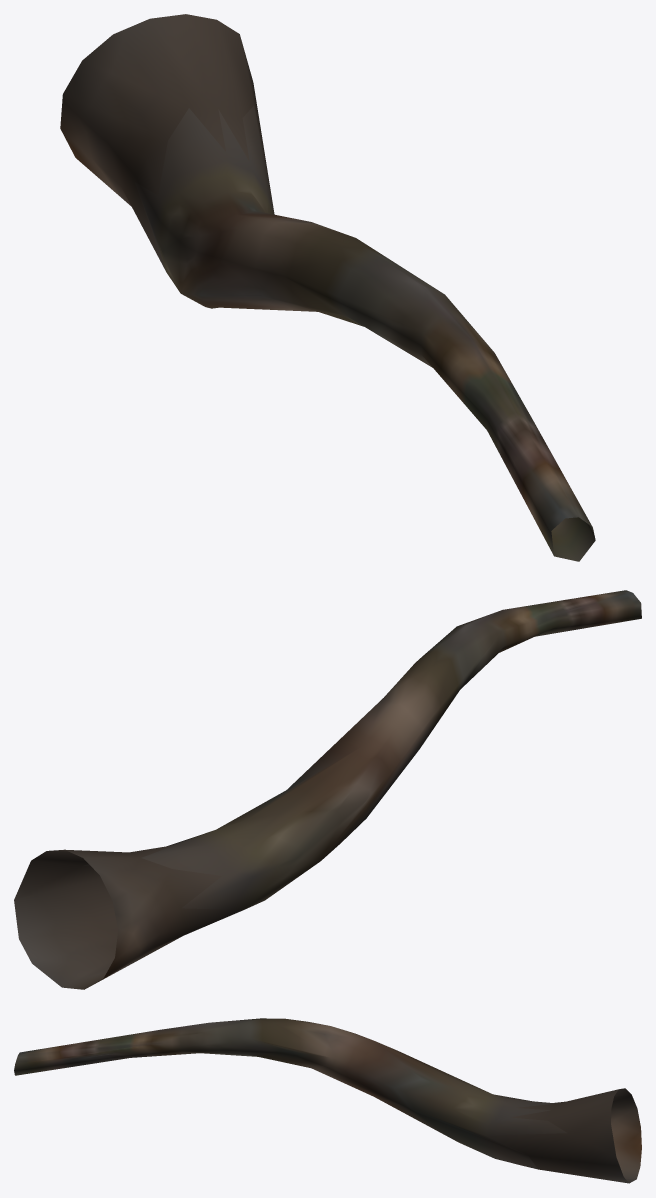
The model's file is horn.glb.
3 views of the same model, one above another, from view 1: azimuth 30°, elevation 25°; view 2: azimuth 150°, elevation 25°; view 3: azimuth 270°, elevation 25° (orthographic). The views are drawn at different scales.
Visible parts, largest first — view 1: shofar; view 2: shofar; view 3: shofar.
Part boxes in pixels (box(x1,y1,x2,y2)): shofar: box(60, 14, 595, 561); shofar: box(14, 590, 641, 989); shofar: box(14, 1018, 641, 1183).
Size of the model in its own units: 9.48 by 7.41 by 34.68.
Materials: 1 (1 with a texture image).
